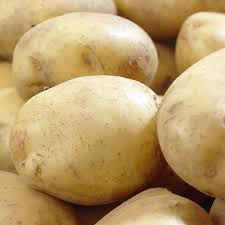potato: (11, 73, 164, 200)
